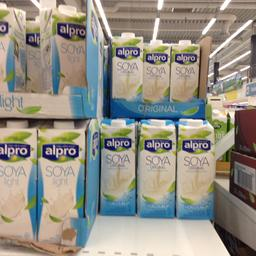milk: (38, 118, 84, 240), (0, 118, 38, 244), (39, 4, 87, 100), (176, 116, 216, 220), (136, 116, 175, 218), (100, 118, 138, 217), (110, 30, 144, 100), (0, 2, 25, 90), (169, 39, 199, 104), (143, 38, 170, 103)
